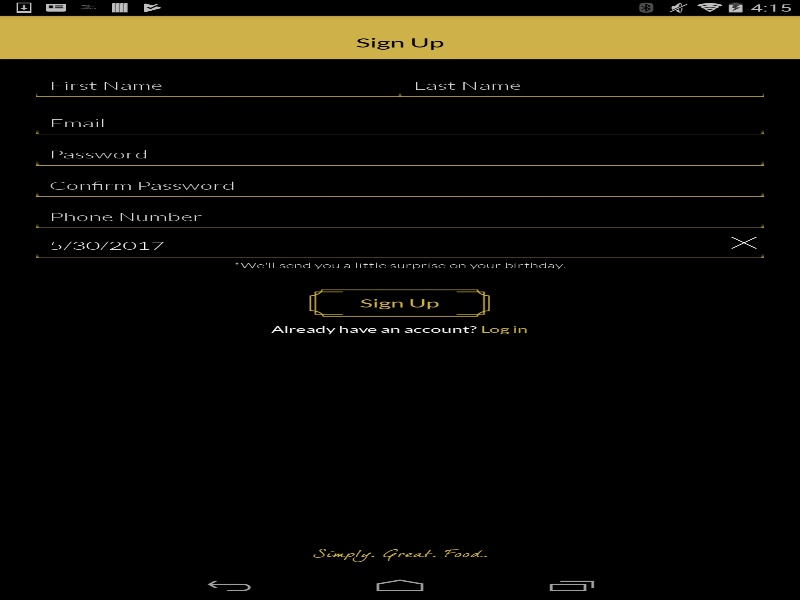Button: (306, 288, 492, 318), (724, 233, 764, 252)
Input: (36, 109, 764, 134), (36, 140, 764, 165), (36, 171, 764, 196), (36, 203, 764, 228), (36, 71, 400, 96), (400, 71, 764, 96)
